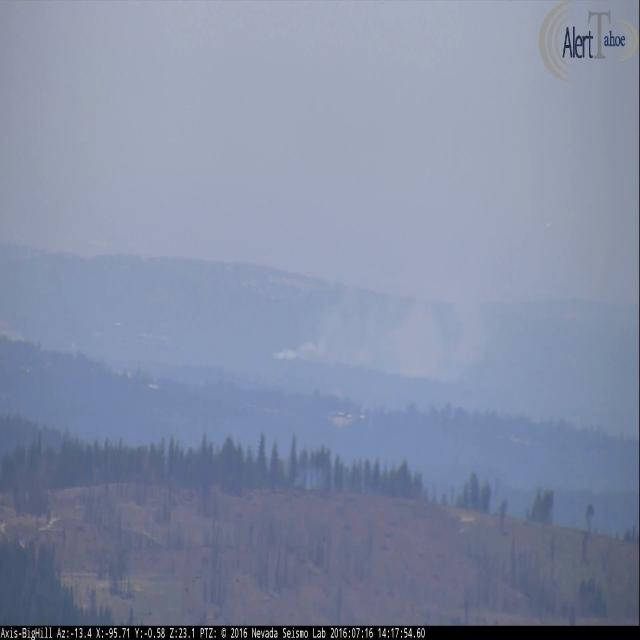smoke: (273, 265, 489, 379)
